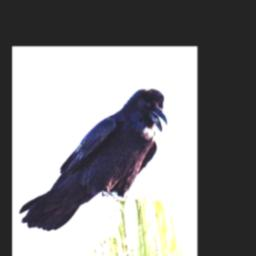Crow: (19, 87, 167, 231)
